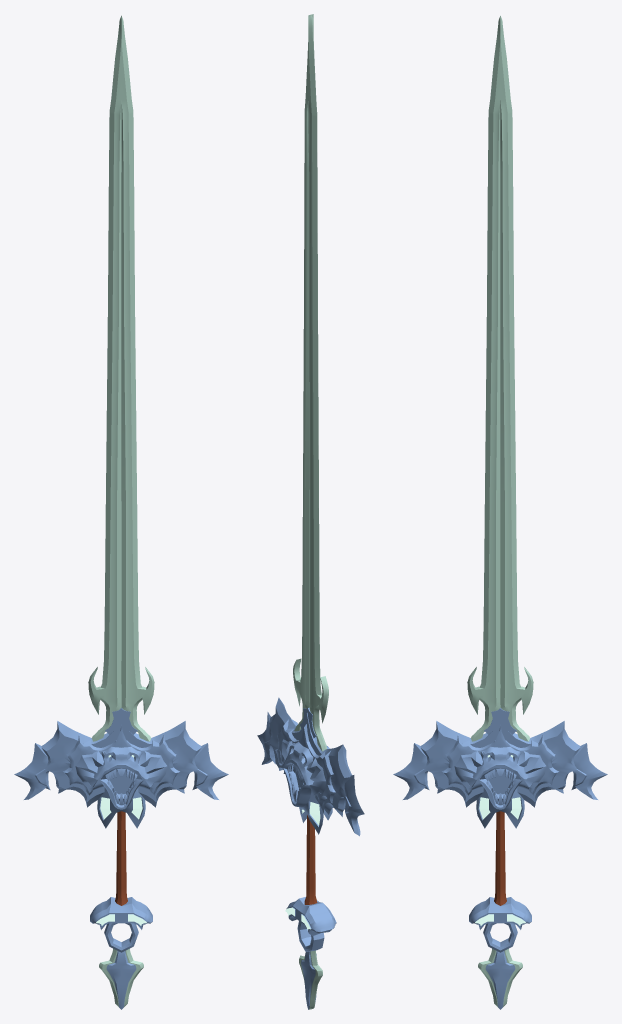
The model's file is HydraSword.fbx.
3 renders of one model, left to right at view 1: azimuth 90°, elevation 25°; view 2: azimuth 210°, elevation 25°; view 3: azimuth 270°, elevation 25°, orthographic.
Visible parts, largest first — view 1: SwordBlade.008; view 2: SwordBlade.008; view 3: SwordBlade.008.
Part boxes in pixels (<box>): SwordBlade.008: <box>14,15,228,1009</box>; SwordBlade.008: <box>257,14,364,1009</box>; SwordBlade.008: <box>393,15,607,1009</box>.
Size of the model in its own units: 2.56 by 13.06 by 0.4764.
